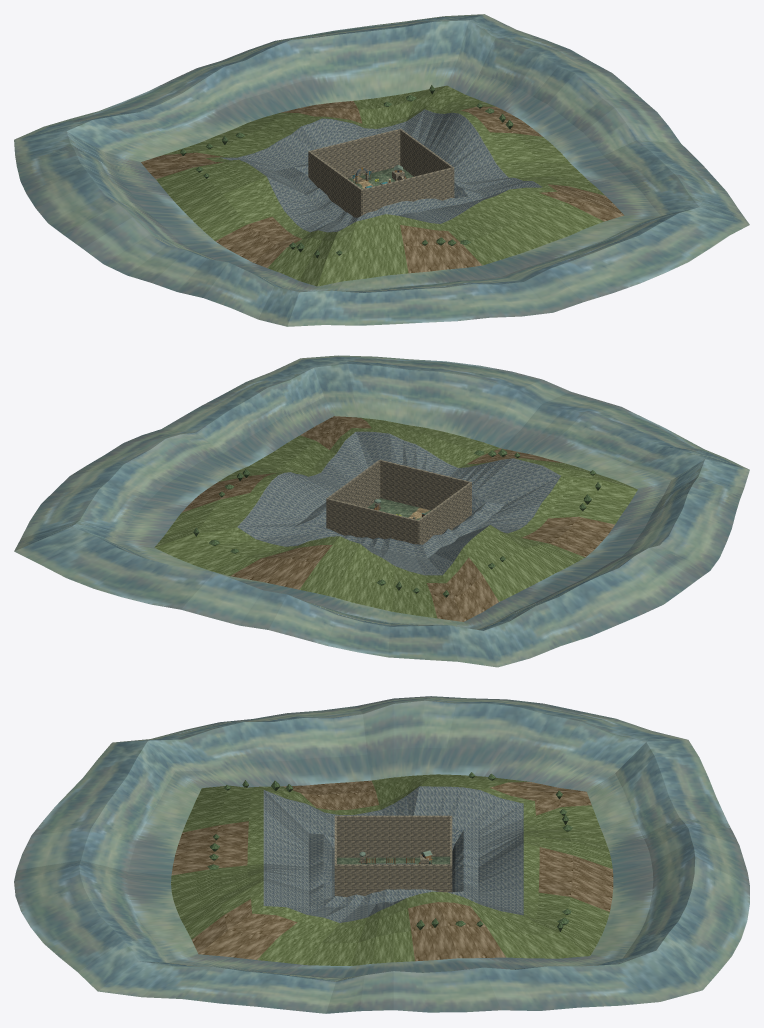
The model's file is Reedwater.fbx.
3 renders of one model, top to bottom at view 1: azimuth 30°, elevation 25°; view 2: azimuth 150°, elevation 25°; view 3: azimuth 270°, elevation 25°, orthographic. The views are drawn at different scales.
Visible parts, largest first — view 1: Surroundings, Rim, C_Solids, Terrain; view 2: Surroundings, Rim, C_Solids, Terrain; view 3: Surroundings, Rim, C_Solids, Terrain.
Boxes of the visible parts, x1=… form: Surroundings: x1=14, y1=14, x2=749, y2=326; Rim: x1=220, y1=109, x2=542, y2=232; C_Solids: x1=308, y1=129, x2=454, y2=217; Terrain: x1=349, y1=168, x2=413, y2=189; Surroundings: x1=14, y1=355, x2=749, y2=667; Rim: x1=237, y1=431, x2=560, y2=575; C_Solids: x1=326, y1=459, x2=471, y2=544; Terrain: x1=367, y1=498, x2=430, y2=519; Surroundings: x1=14, y1=696, x2=749, y2=1013; Rim: x1=263, y1=786, x2=523, y2=922; C_Solids: x1=334, y1=815, x2=452, y2=897; Terrain: x1=337, y1=856, x2=450, y2=864.
Bounding box in the file's own units: 26006 × 2117 × 26031.
